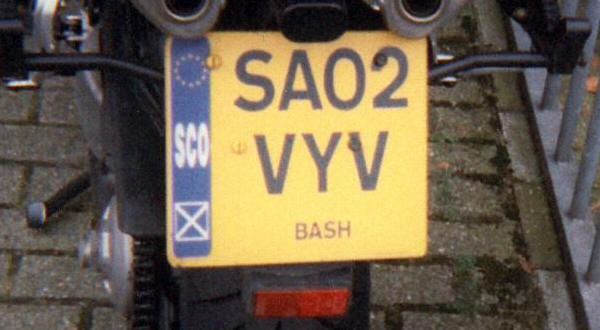license_plate: (163, 26, 428, 270)
